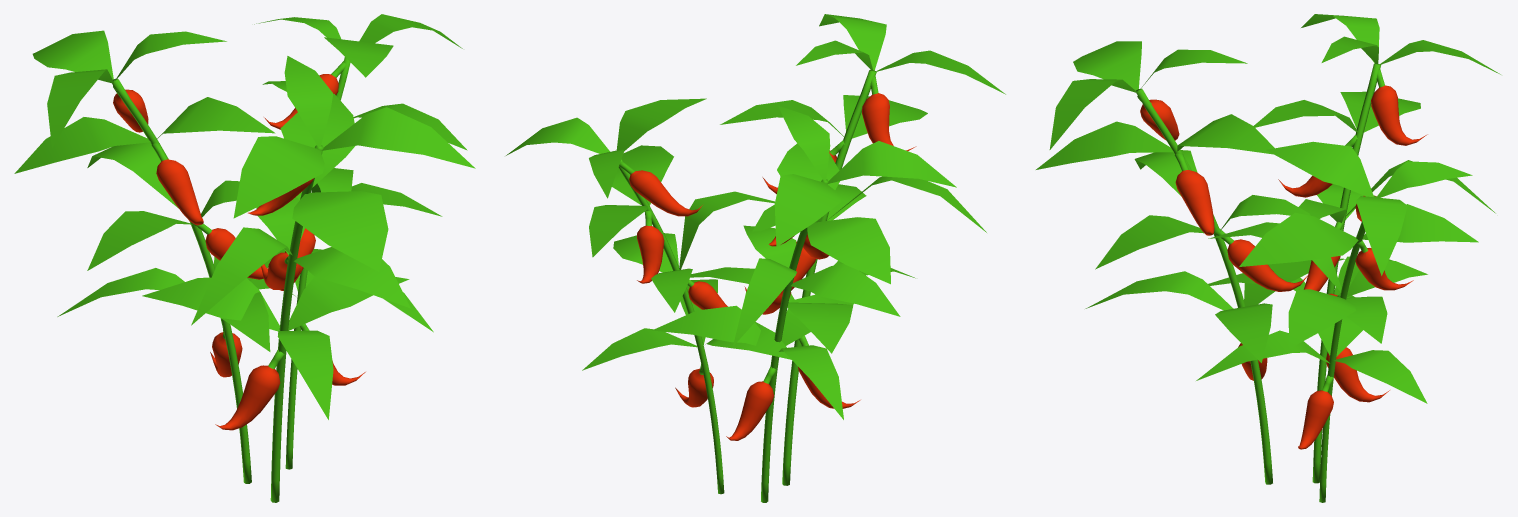
File: Pepper.fbx
3 renders of one model, left to right at view 1: azimuth 30°, elevation 25°; view 2: azimuth 150°, elevation 25°; view 3: azimuth 270°, elevation 25°, orthographic. The views are drawn at different scales.
Parts seen in each view (by area): view 1: Pepper; view 2: Pepper; view 3: Pepper.
Boxes of the visible parts, x1=… form: Pepper: x1=14, y1=14, x2=475, y2=502; Pepper: x1=506, y1=14, x2=1005, y2=502; Pepper: x1=1036, y1=14, x2=1500, y2=502.
Size of the model in its own units: 0.5042 by 0.4839 by 0.4824.
